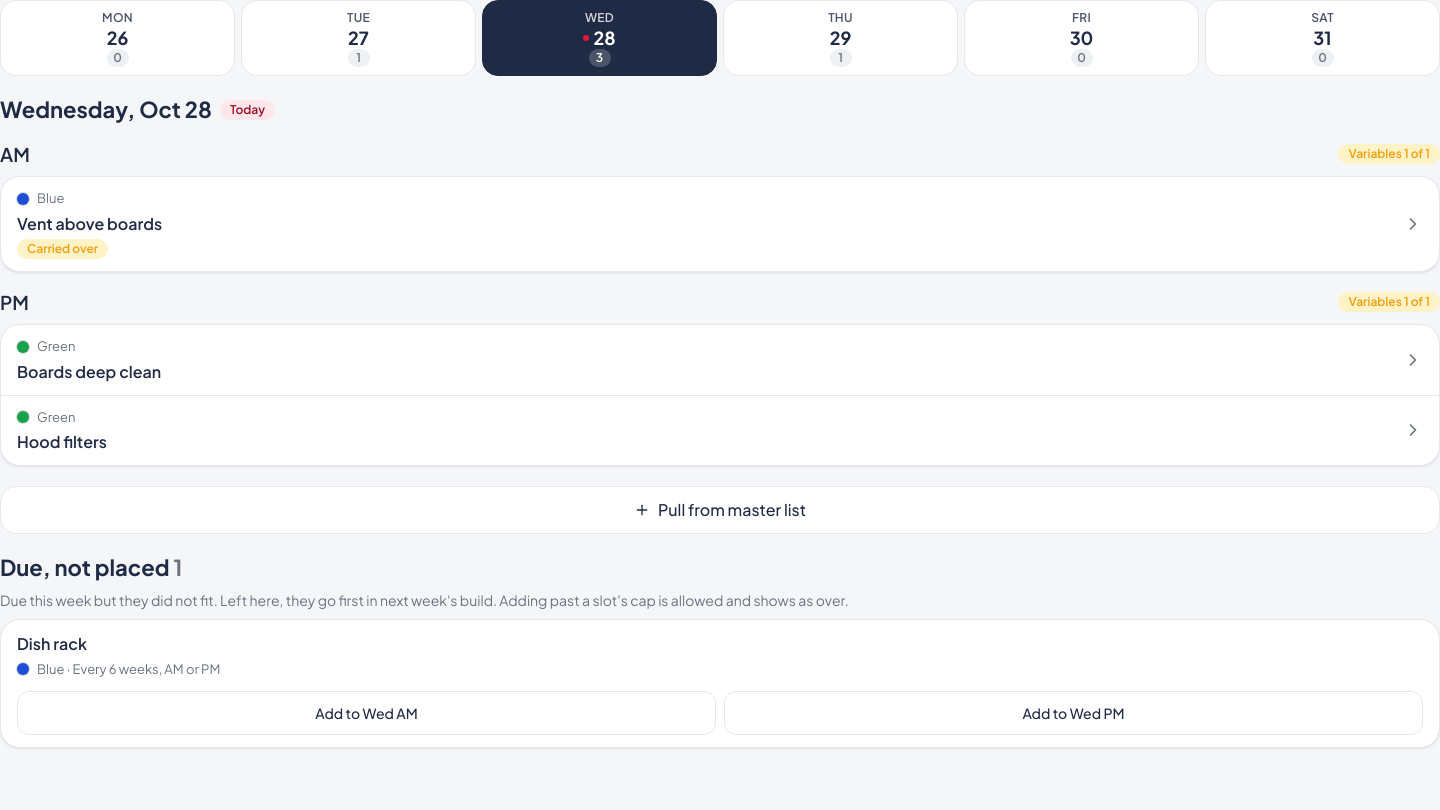
Test case: a planner › offers no move, skip or remove on today's clean
The width and height of the screenshot is (1440, 810).
Click the button "Green Hood filters".
click(56, 416)  # box [1,396,1439,465]
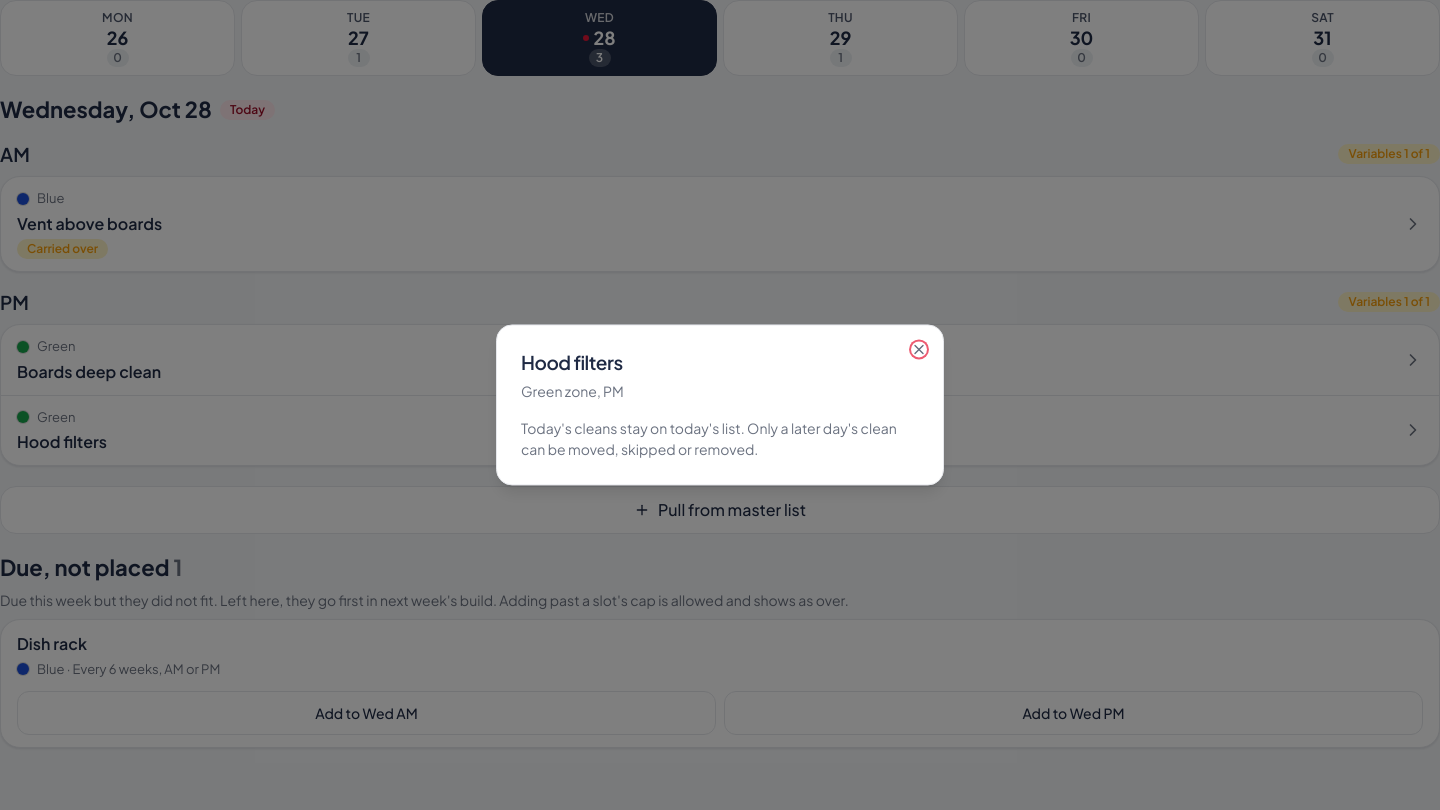
Expected: the text "Today's cleans stay on today's list" is shown, [521,420,897,459]
